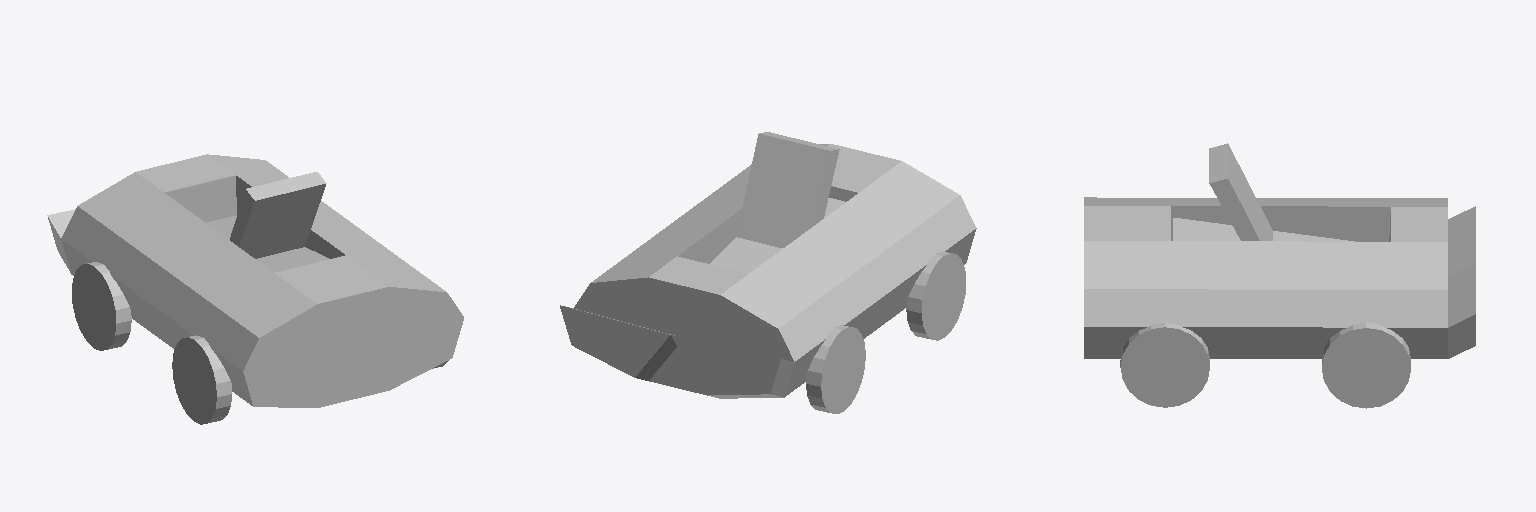
Rendered from car4.obj.
3 renders of one model, left to right at view 1: azimuth 30°, elevation 25°; view 2: azimuth 150°, elevation 25°; view 3: azimuth 270°, elevation 25°, orthographic.
Visible parts, largest first — view 1: pCylinder6; view 2: pCylinder6; view 3: pCylinder6.
Boxes of the visible parts, x1,y1,x2,y2 form: pCylinder6: [47, 154, 463, 424]; pCylinder6: [560, 132, 976, 413]; pCylinder6: [1084, 143, 1475, 408].
Bounding box in the file's own units: 1.3 × 0.9852 × 1.84.